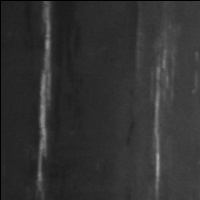scratches: (32, 2, 58, 191), (148, 47, 173, 185)
